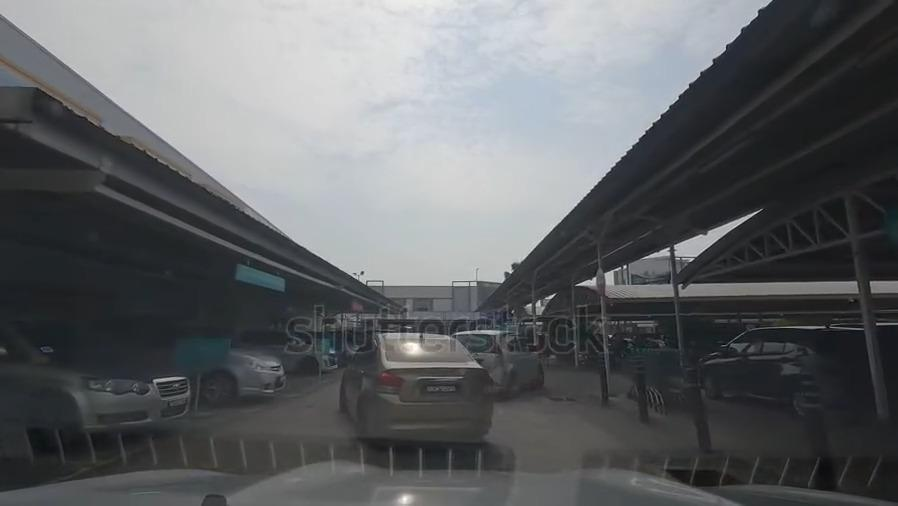car: (0, 323, 192, 432), (353, 335, 496, 451), (99, 324, 285, 399), (698, 329, 886, 403), (465, 328, 550, 398), (236, 331, 337, 376)
manhole: (663, 464, 742, 494), (549, 394, 575, 403)
wheel: (26, 393, 79, 448), (203, 371, 235, 404), (357, 399, 368, 439), (297, 355, 317, 375), (507, 371, 517, 395), (537, 363, 545, 388)
